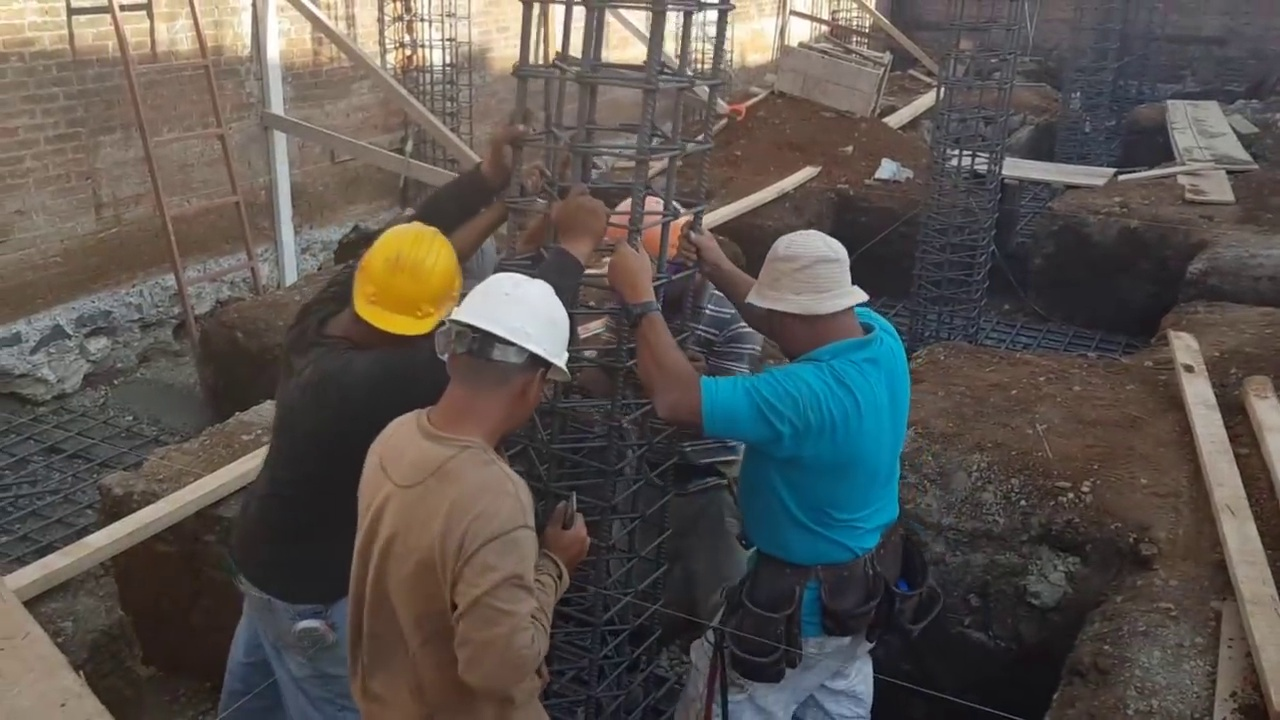helmet: (441, 273, 576, 374), (354, 230, 460, 338), (601, 197, 697, 258)
helmet-off: (714, 233, 863, 360), (541, 184, 611, 284)
helmet-on: (416, 270, 574, 450), (324, 230, 465, 368), (598, 196, 704, 339)
person: (212, 112, 531, 712), (570, 194, 901, 720), (346, 267, 577, 718), (591, 195, 766, 639)
